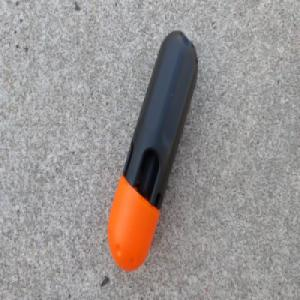PlasticPart: (106, 27, 199, 272)
